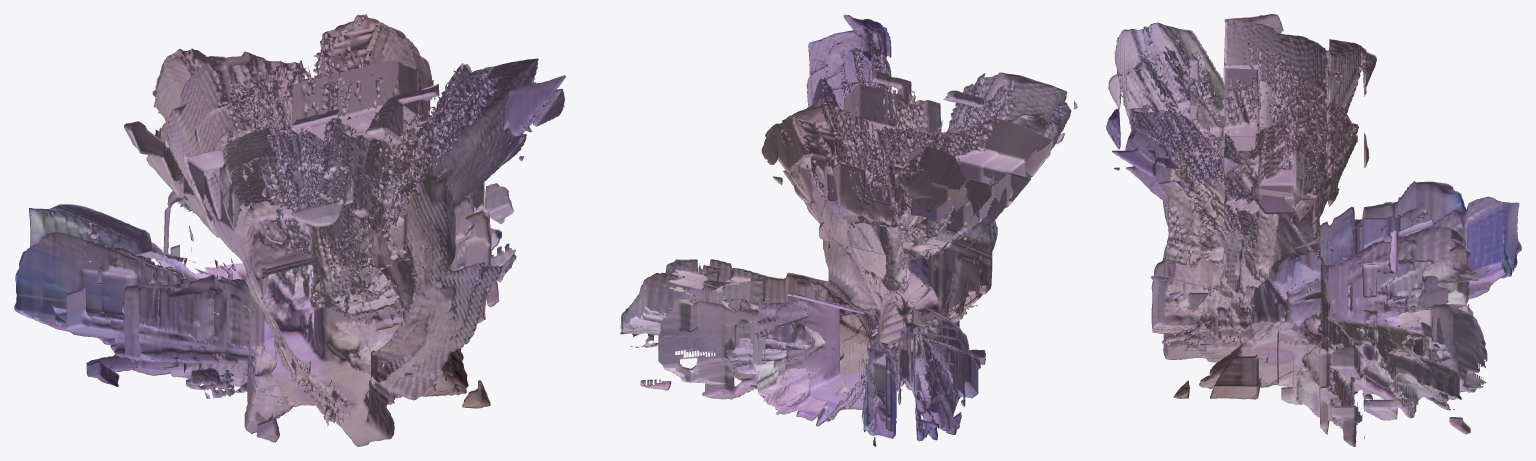
File: Elegant Lavender Manor Foyer_collider.glb
3 views of the same model, side by side, from view 1: azimuth 30°, elevation 25°; view 2: azimuth 150°, elevation 25°; view 3: azimuth 270°, elevation 25° (orthographic). The views are drawn at different scales.
Visible parts, largest first — view 1: world; view 2: world; view 3: world.
Boxes of the visible parts, x1,y1,x2,y2 form: world: (14, 14, 565, 446); world: (620, 14, 1077, 446); world: (1106, 14, 1521, 446).
Size of the model in its own units: 12.43 by 9.41 by 12.08.
